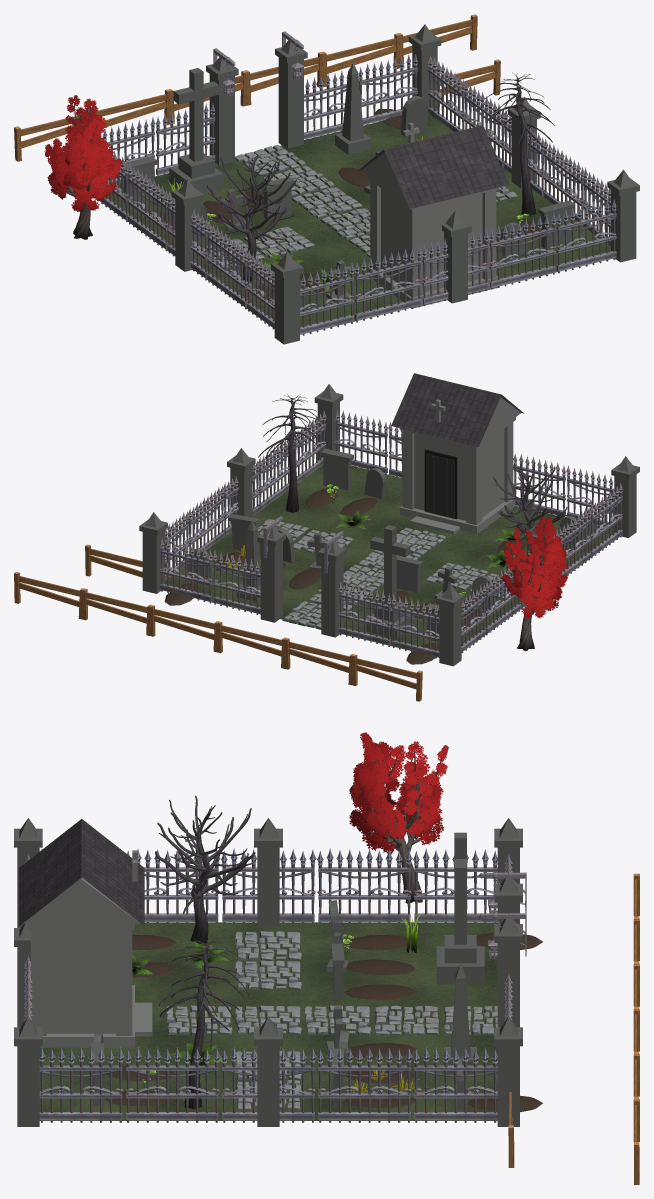
The model's file is Cemetery.glb.
The picture shows the model from 3 angles, top to bottom: view 1: azimuth 30°, elevation 25°; view 2: azimuth 150°, elevation 25°; view 3: azimuth 270°, elevation 25°; orthographic projection. The views are drawn at different scales.
Visible parts, largest first — view 1: CemeteryGround, Crypt, CryptRoof, TwistedTree_2.001, CemCross, DeadTree_1.001, Prop_MetalFence_Ornament.002, Prop_MetalFence_Ornament.004, CemPillar.008, Prop_MetalFence_Ornament.005, CemPillar.007, CemPillar (+39 smaller); view 2: CemeteryGround, Crypt, CryptRoof, TwistedTree_2.001, CemCross, CemPillar.008, CemPillar.007, Prop_MetalFence_Ornament.019, Prop_MetalFence_Ornament.017, Prop_MetalFence_Ornament.005, CemPillar.002, Prop_MetalFence_Ornament.018 (+37 smaller); view 3: CemeteryGround, Crypt, TwistedTree_2.001, CryptRoof, Prop_MetalFence_Ornament.012, Prop_MetalFence_Ornament.014, DeadTree_1.001, Prop_MetalFence_Ornament.009, Prop_MetalFence_Ornament.011, Prop_MetalFence_Ornament.015, CemCross, Prop_MetalFence_Ornament.013 (+27 smaller).
Part boxes in pixels (bbox=[...]): CemeteryGround: bbox=[107, 114, 612, 334]; Crypt: bbox=[361, 152, 499, 308]; CryptRoof: bbox=[358, 125, 508, 208]; TwistedTree_2.001: bbox=[44, 95, 122, 239]; CemCross: bbox=[169, 68, 223, 193]; DeadTree_1.001: bbox=[207, 155, 297, 281]; Prop_MetalFence_Ornament.002: bbox=[355, 245, 421, 322]; Prop_MetalFence_Ornament.004: bbox=[489, 212, 556, 289]; CemPillar.008: bbox=[275, 37, 307, 148]; Prop_MetalFence_Ornament.005: bbox=[556, 199, 616, 273]; CemPillar.007: bbox=[206, 53, 238, 165]; CemPillar: bbox=[271, 251, 303, 344]; CemeteryGround: bbox=[163, 465, 612, 657]; Crypt: bbox=[399, 397, 520, 533]; CryptRoof: bbox=[391, 373, 523, 447]; TwistedTree_2.001: bbox=[501, 516, 567, 651]; CemCross: bbox=[366, 525, 414, 638]; CemPillar.008: bbox=[257, 523, 285, 622]; CemPillar.007: bbox=[318, 538, 346, 637]; Prop_MetalFence_Ornament.019: bbox=[160, 538, 212, 603]; Prop_MetalFence_Ornament.017: bbox=[338, 582, 391, 646]; Prop_MetalFence_Ornament.005: bbox=[335, 410, 387, 474]; CemPillar.002: bbox=[436, 584, 464, 666]; Prop_MetalFence_Ornament.018: bbox=[213, 550, 260, 614]; CemeteryGround: bbox=[39, 922, 497, 1120]; Crypt: bbox=[23, 877, 140, 1047]; TwistedTree_2.001: bbox=[349, 732, 448, 903]; CryptRoof: bbox=[18, 819, 144, 926]; Prop_MetalFence_Ornament.012: bbox=[125, 1047, 220, 1122]; Prop_MetalFence_Ornament.014: bbox=[317, 1047, 412, 1122]; DeadTree_1.001: bbox=[155, 795, 255, 943]; Prop_MetalFence_Ornament.009: bbox=[317, 848, 412, 922]; Prop_MetalFence_Ornament.011: bbox=[39, 1047, 124, 1122]; Prop_MetalFence_Ornament.015: bbox=[413, 1047, 497, 1122]; CemCross: bbox=[436, 832, 484, 984]; Prop_MetalFence_Ornament.013: bbox=[221, 1047, 316, 1122].
Size of the model in its own units: 13.62 by 3.73 by 11.73.
Materials: 19 (14 with a texture image).
